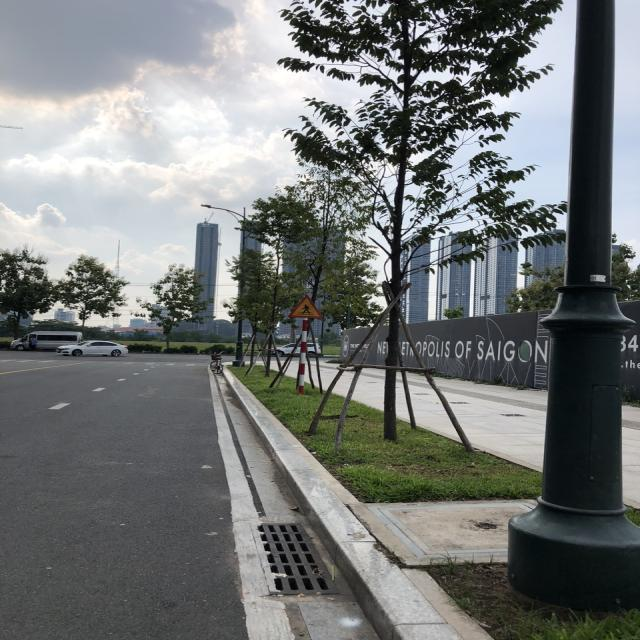Bien bao duong nguoi di bo cat ngang: (283, 291, 331, 323)
